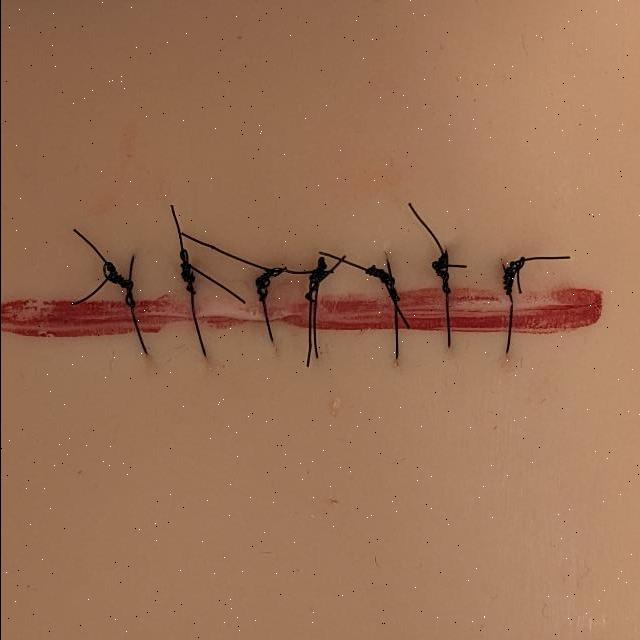knot_loose: (88, 241, 144, 301), (302, 243, 348, 295), (247, 253, 285, 299)
knot_perfect: (426, 238, 468, 292), (168, 235, 203, 297)
knot_tight: (496, 229, 536, 298), (365, 246, 409, 294)
suture_good: (301, 295, 325, 407), (497, 297, 523, 397), (249, 300, 277, 384)
suture_loose: (123, 293, 152, 402), (391, 299, 405, 413)
suture_tight: (438, 296, 457, 408), (189, 294, 207, 405)
